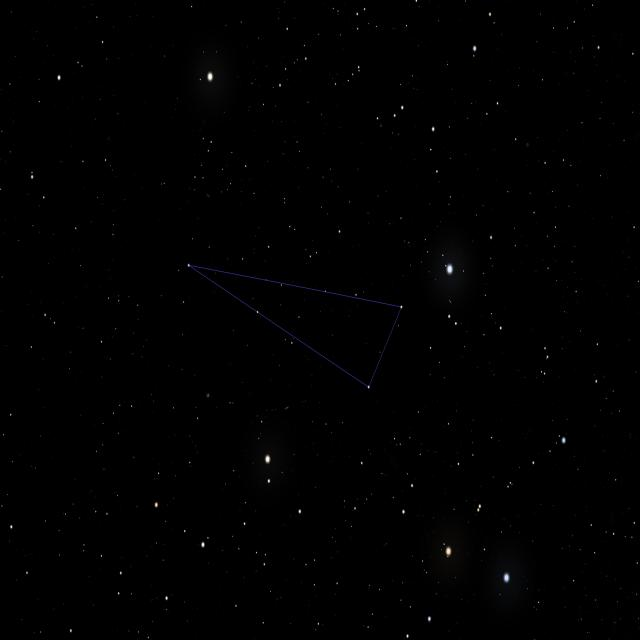Sculptor: (182, 257, 405, 394)
